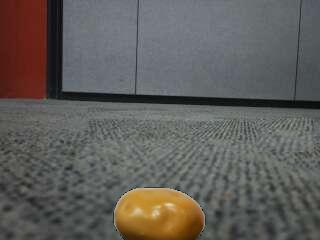Potato: (115, 188, 207, 240)
